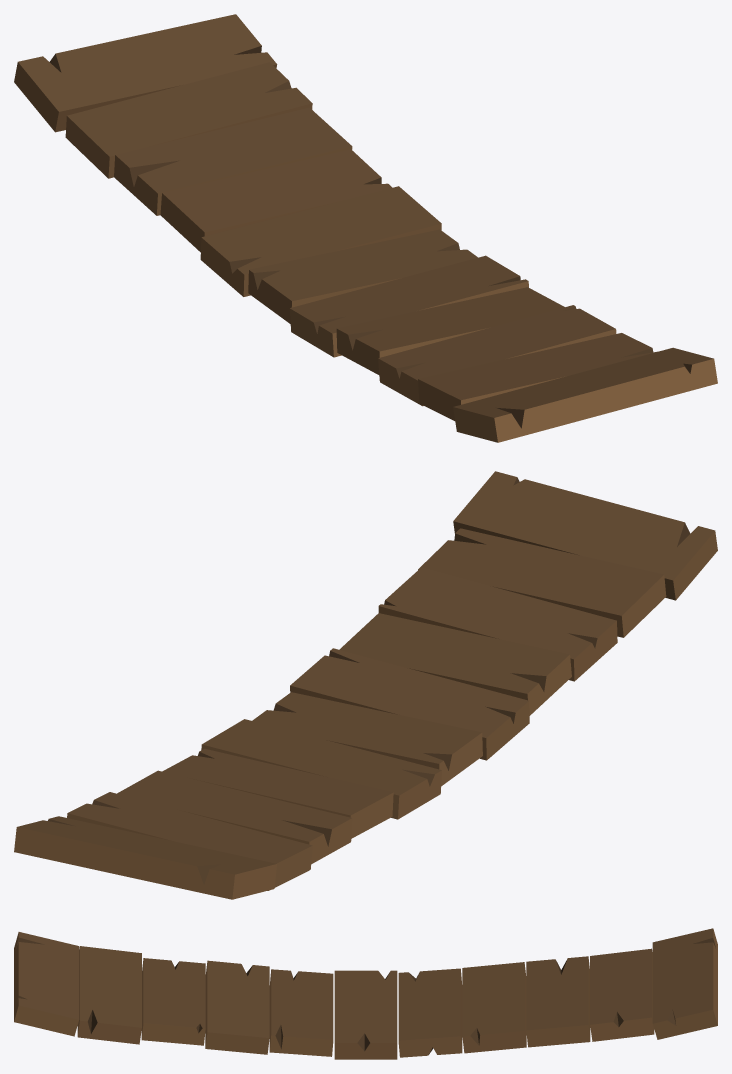
The model's file is Bridge_3_Brown.fbx.
The picture shows the model from 3 angles, top to bottom: view 1: azimuth 30°, elevation 25°; view 2: azimuth 150°, elevation 25°; view 3: azimuth 270°, elevation 25°; orthographic projection. The views are drawn at different scales.
Parts seen in each view (by area): view 1: Bridge_3_Brown_Part_1, Bridge_3_Brown_Part_2, Bridge_3_Brown_Part_3; view 2: Bridge_3_Brown_Part_1, Bridge_3_Brown_Part_2, Bridge_3_Brown_Part_3; view 3: Bridge_3_Brown_Part_1, Bridge_3_Brown_Part_2, Bridge_3_Brown_Part_3.
Boxes of the visible parts, left/top/right/bottom form: Bridge_3_Brown_Part_1: left=18, top=14, right=713, bottom=417; Bridge_3_Brown_Part_2: left=14, top=62, right=717, bottom=442; Bridge_3_Brown_Part_3: left=50, top=45, right=691, bottom=428; Bridge_3_Brown_Part_1: left=17, top=471, right=714, bottom=874; Bridge_3_Brown_Part_2: left=14, top=521, right=717, bottom=899; Bridge_3_Brown_Part_3: left=48, top=477, right=690, bottom=884; Bridge_3_Brown_Part_1: left=18, top=928, right=713, bottom=1042; Bridge_3_Brown_Part_2: left=14, top=929, right=717, bottom=1059; Bridge_3_Brown_Part_3: left=16, top=937, right=715, bottom=1054.
Size of the model in its own units: 593 by 209 by 2253.
